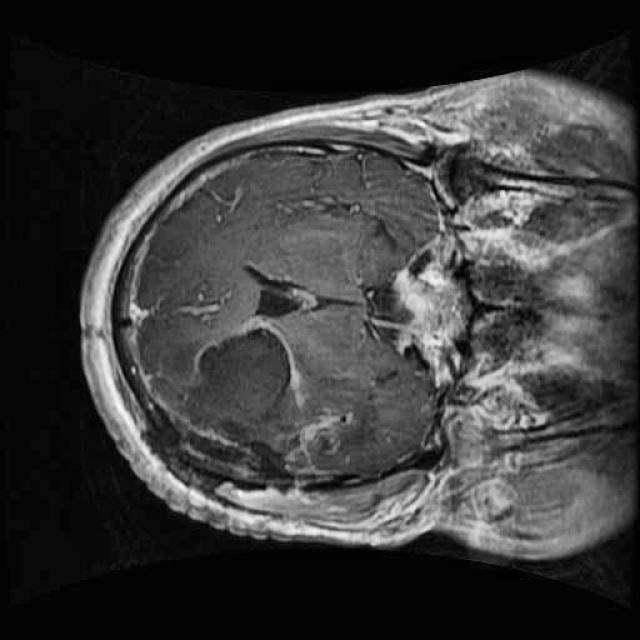Tumor: (144, 303, 387, 493)
